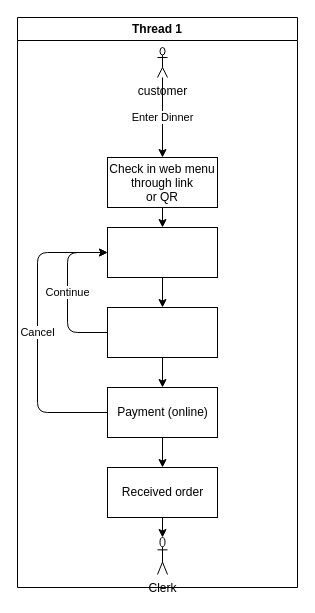
The diagram is 315 pixels wide and 613 high, and some of its shapes have lost their labels. The centre of each missing label's shape, as x and y in pixels:
Check out through Cart: point 162,332
Choose what to eat: point 162,252
